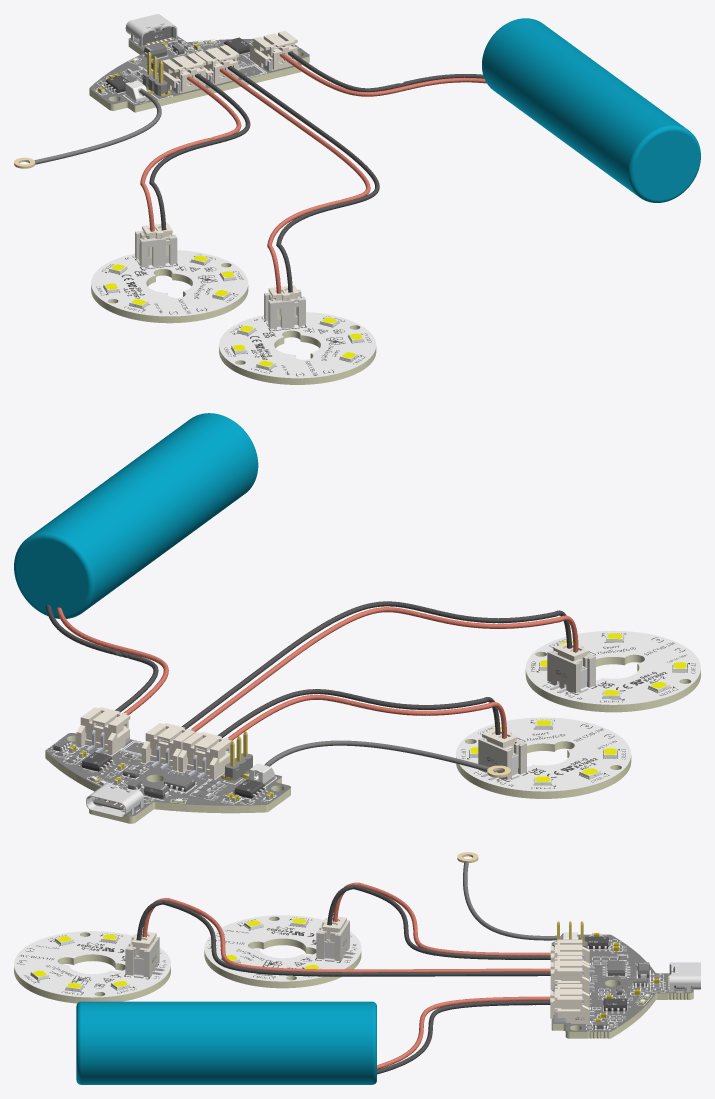
Rendered from 202 standard assembled 2.0 (1).glb.
3 views of the same model, one above another, from view 1: azimuth 30°, elevation 25°; view 2: azimuth 150°, elevation 25°; view 3: azimuth 270°, elevation 25° (orthographic). The views are drawn at different scales.
Visible parts, largest first — view 1: Node31, Node6, Node29, Node28, Node1, Node41, Node30, Node15, Node18, Node9, Node20, Node5 (+1 smaller); view 2: Node31, Node6, Node29, Node28, Node1, Node41, Node30, Node15, Node9, Node18, Node7, Node20 (+3 smaller); view 3: Node31, Node6, Node1, Node29, Node41, Node28, Node30, Node15, Node9, Node7, Node18, Node5 (+5 smaller).
Boxes of the visible parts, box(x1,y1,x2,y2) form: Node31: box(482, 18, 700, 202); Node6: box(91, 35, 376, 378); Node29: box(89, 36, 376, 384); Node28: box(142, 31, 299, 320); Node1: box(124, 51, 484, 328); Node41: box(140, 53, 486, 293); Node30: box(89, 35, 309, 105); Node15: box(135, 231, 305, 329); Node18: box(34, 27, 175, 164); Node9: box(108, 14, 362, 369); Node20: box(105, 40, 362, 366); Node5: box(224, 318, 371, 370); Node31: box(14, 413, 258, 750); Node6: box(125, 630, 700, 802); Node29: box(45, 651, 700, 823); Node28: box(76, 642, 588, 779); Node1: box(46, 601, 625, 764); Node41: box(57, 607, 578, 740); Node30: box(45, 733, 290, 816); Node15: box(478, 650, 595, 779); Node9: box(86, 636, 685, 817); Node18: box(93, 740, 489, 810); Node7: box(53, 740, 249, 800); Node20: box(90, 633, 686, 802); Node31: box(76, 1001, 376, 1084); Node6: box(14, 915, 630, 997); Node1: box(130, 884, 550, 1074); Node29: box(14, 916, 693, 1038); Node41: box(142, 882, 550, 1069); Node28: box(131, 916, 589, 1022); Node30: box(551, 934, 693, 1031); Node15: box(125, 918, 349, 977); Node9: box(39, 922, 700, 992); Node7: box(581, 940, 660, 1028); Node18: box(463, 861, 675, 987); Node5: box(30, 933, 131, 995).
Size of the model in its own units: 124 by 33.76 by 149.
